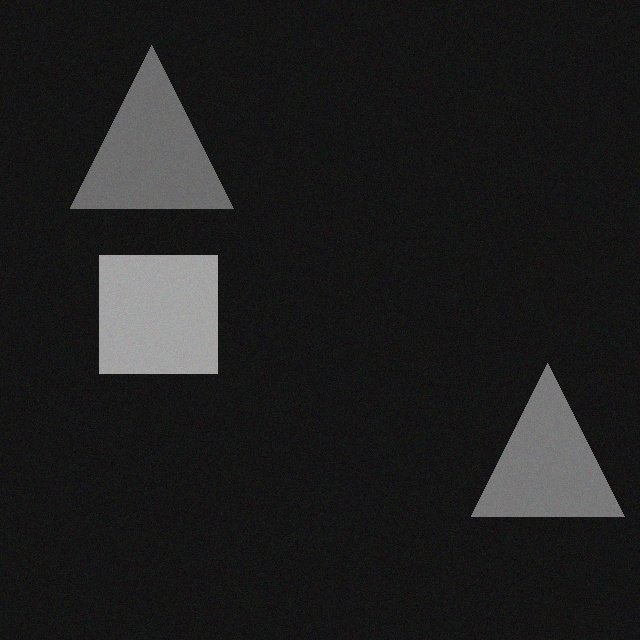square: (92, 256, 210, 374)
triangle: (63, 46, 226, 209), (464, 364, 617, 517)
